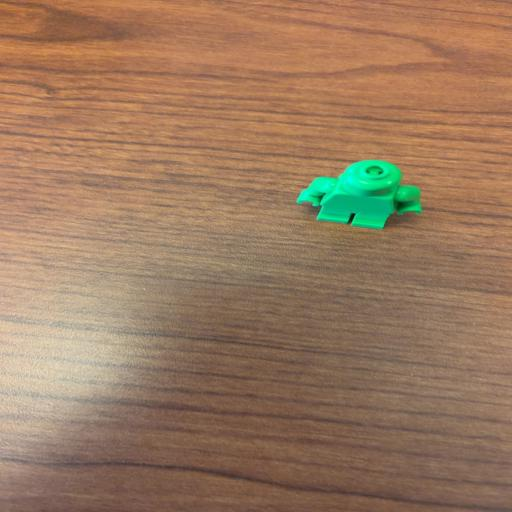UnoQ-minifig-detector: (297, 160, 421, 229)
